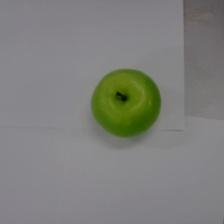green: (90, 66, 162, 138)
